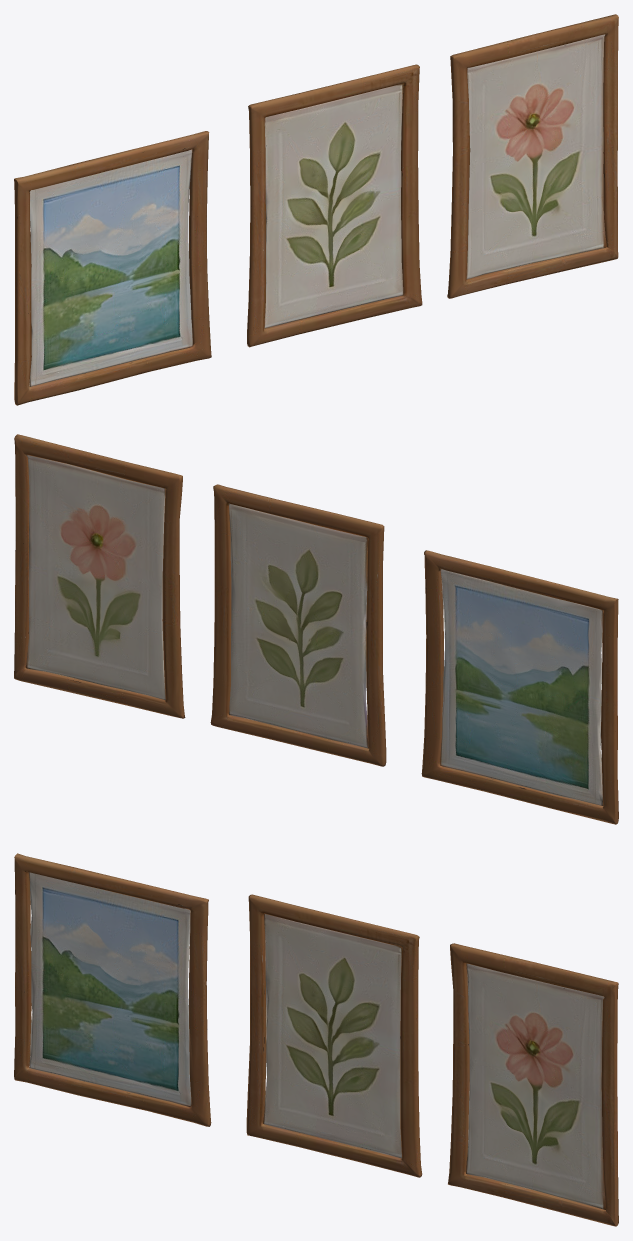
Rendered from wall_art_triptych.glb.
3 views of the same model, one above another, from view 1: azimuth 30°, elevation 25°; view 2: azimuth 150°, elevation 25°; view 3: azimuth 330°, elevation 25° (orthographic).
Parts seen in each view (by area): view 1: geometry_0; view 2: geometry_0; view 3: geometry_0.
Part boxes in pixels (x1,y1,x2,y2): geometry_0: [14, 14, 618, 405]; geometry_0: [14, 434, 618, 824]; geometry_0: [14, 853, 618, 1226].
Size of the model in its own units: 1 by 0.3879 by 0.0146.
1 material, 1 textured.
